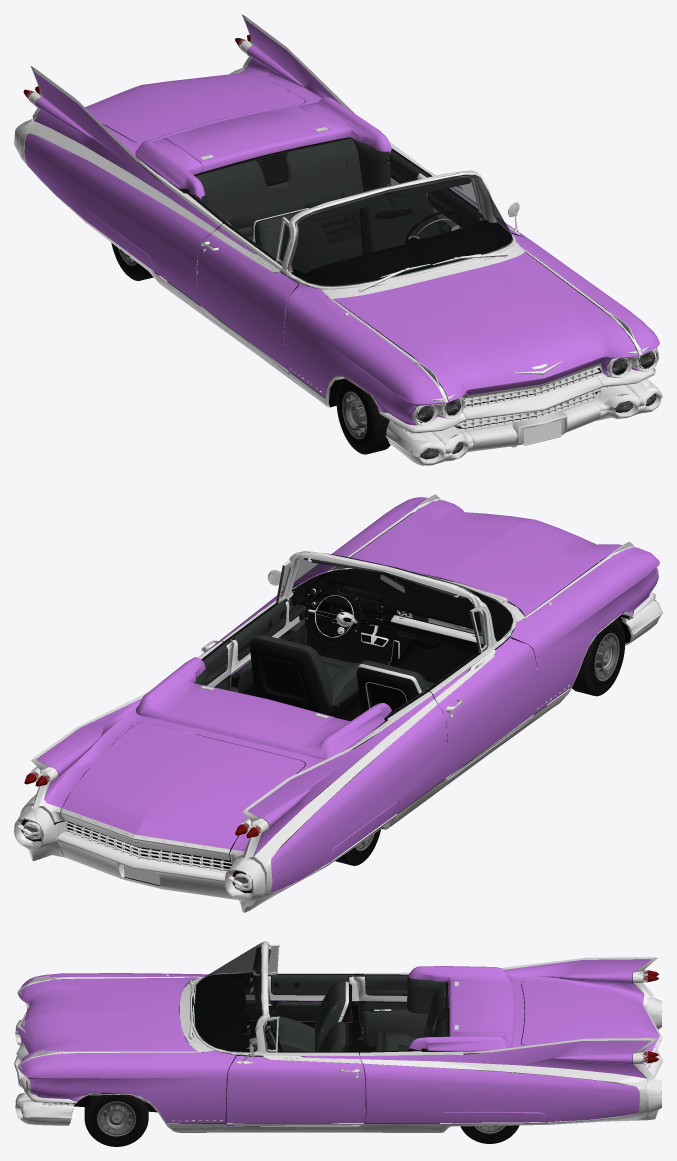
File: gt_eldorado_hi.glb
3 views of the same model, one above another, from view 1: azimuth 30°, elevation 25°; view 2: azimuth 150°, elevation 25°; view 3: azimuth 270°, elevation 25° (orthographic). The views are drawn at different scales.
Parts seen in each view (by area): view 1: Object_4, Object_3, Object_5, Object_9, Object_13, WHEEL_RF_TIRE, Object_6, Object_11, Object_7, Object_12, WHEEL_RF_RIM; view 2: Object_4, Object_3, Object_5, Object_13, Object_7, Object_9, Object_6, WHEEL_RF_TIRE, WHEEL_RF_RIM, Object_12, Object_11; view 3: Object_4, Object_3, Object_5, Object_9, Object_13, WHEEL_LF_TIRE, Object_7, WHEEL_LF_RIM, Object_12, WHEEL_LR_TIRE, Object_6, Object_11.
Boxes of the visible parts, x1,y1,x2,y2 form: Object_4: (24, 19, 659, 425); Object_3: (188, 137, 512, 297); Object_5: (14, 14, 662, 465); Object_9: (278, 174, 512, 284); Object_13: (14, 40, 661, 464); WHEEL_RF_TIRE: (336, 378, 390, 454); Object_6: (34, 33, 651, 459); Object_11: (23, 34, 656, 459); Object_7: (226, 162, 561, 445); Object_12: (103, 103, 655, 420); WHEEL_RF_RIM: (342, 391, 366, 439); Object_4: (36, 497, 659, 892); Object_3: (194, 558, 535, 761); Object_5: (14, 494, 662, 912); Object_13: (14, 499, 662, 912); Object_7: (124, 575, 483, 885); Object_9: (280, 553, 512, 647); Object_6: (37, 500, 633, 885); WHEEL_RF_TIRE: (572, 619, 625, 696); WHEEL_RF_RIM: (594, 633, 619, 680); Object_12: (54, 562, 629, 860); Object_11: (21, 771, 260, 892); Object_4: (17, 959, 659, 1132); Object_3: (186, 946, 447, 1119); Object_5: (14, 941, 662, 1132); Object_9: (192, 942, 276, 1051); Object_13: (15, 941, 662, 1132); WHEEL_LF_TIRE: (84, 1093, 148, 1146); Object_7: (19, 976, 407, 1086); WHEEL_LF_RIM: (97, 1101, 135, 1136); Object_12: (71, 974, 642, 1124); WHEEL_LR_TIRE: (460, 1125, 519, 1143); Object_6: (21, 946, 646, 1113); Object_11: (21, 970, 658, 1113).
Size of the model in its own units: 2.08 by 1.28 by 5.78.
13 materials, 7 textured.
